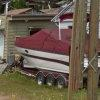Boat: (13, 28, 85, 92)
